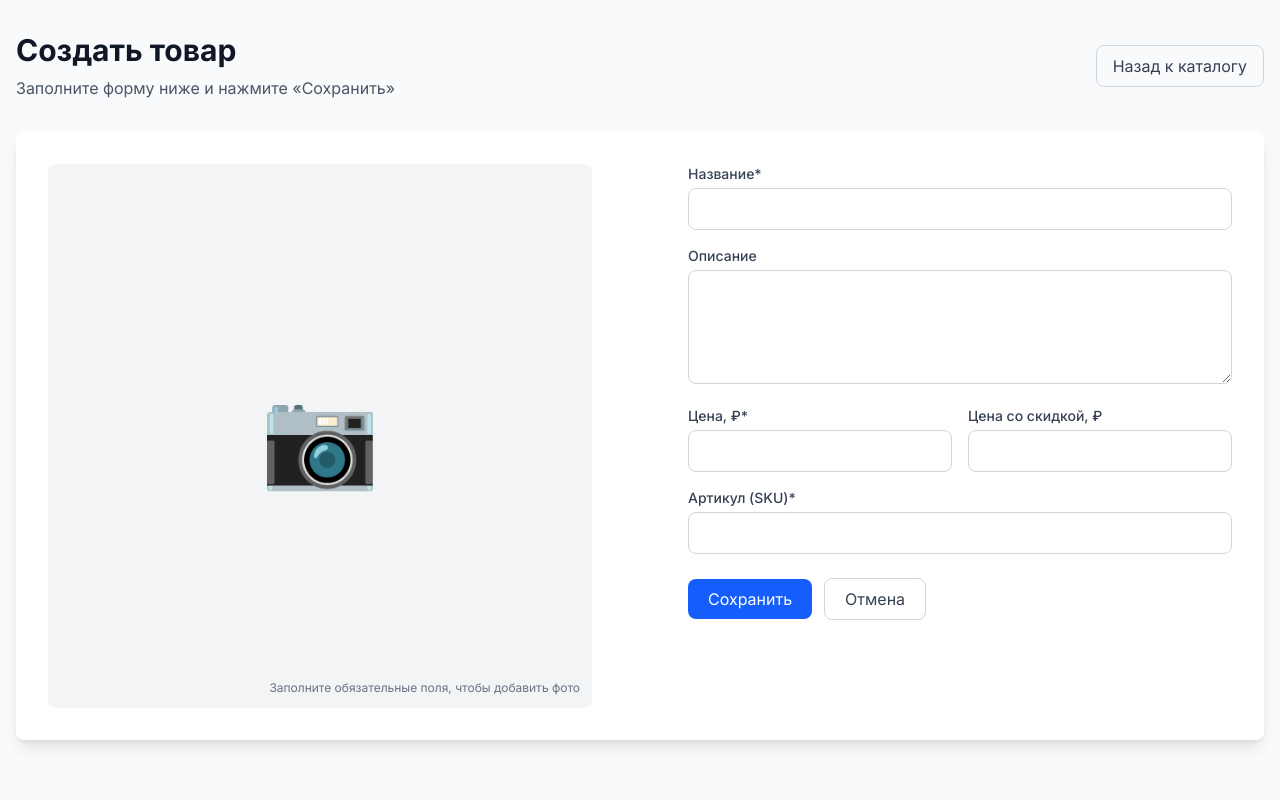
Test: App NewProductPage › кнопка загрузки показывает текст "Загрузка…" при отправке
This screenshot has width=1280, height=800.
In the field labelled "Название*": (960,209) top-left (688, 188), bottom-right (1232, 230), type "A"
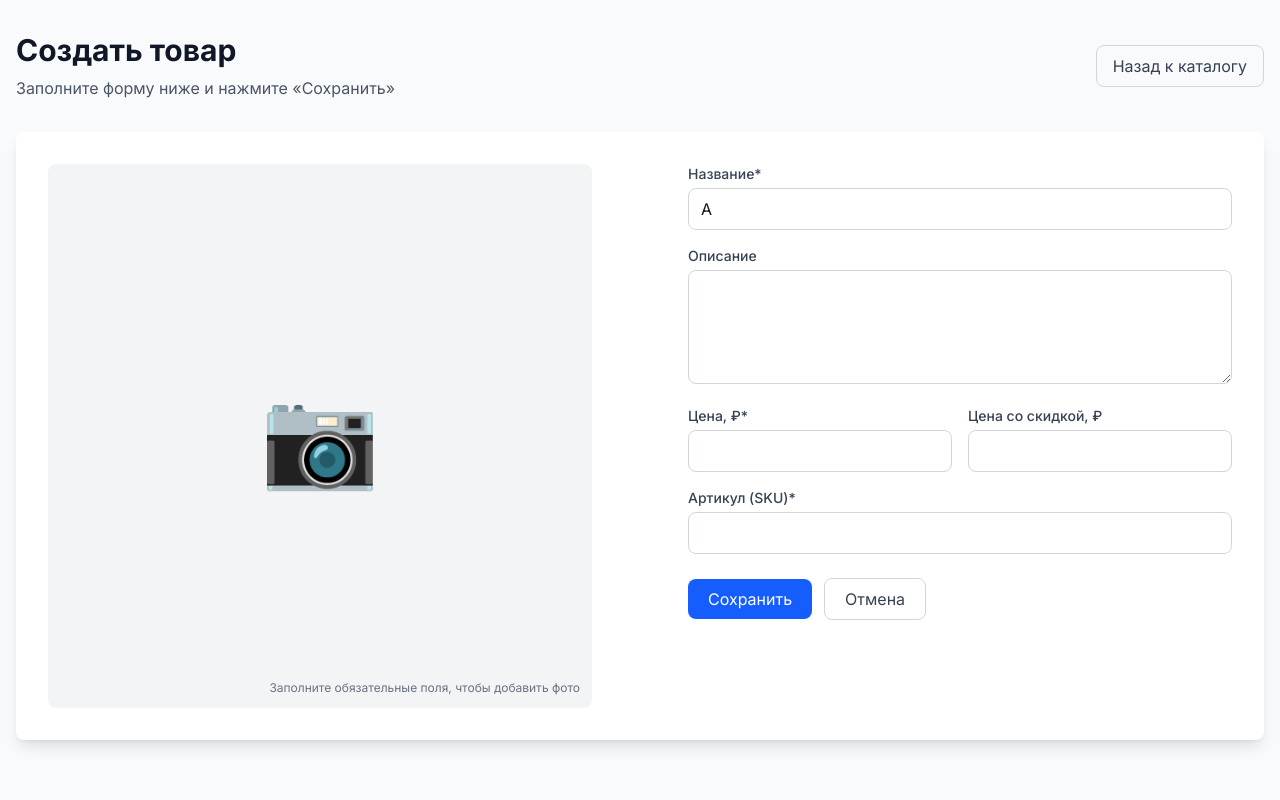
In the number field labelled "Цена, ₽*": (820,451) top-left (688, 430), bottom-right (952, 472), type "10"
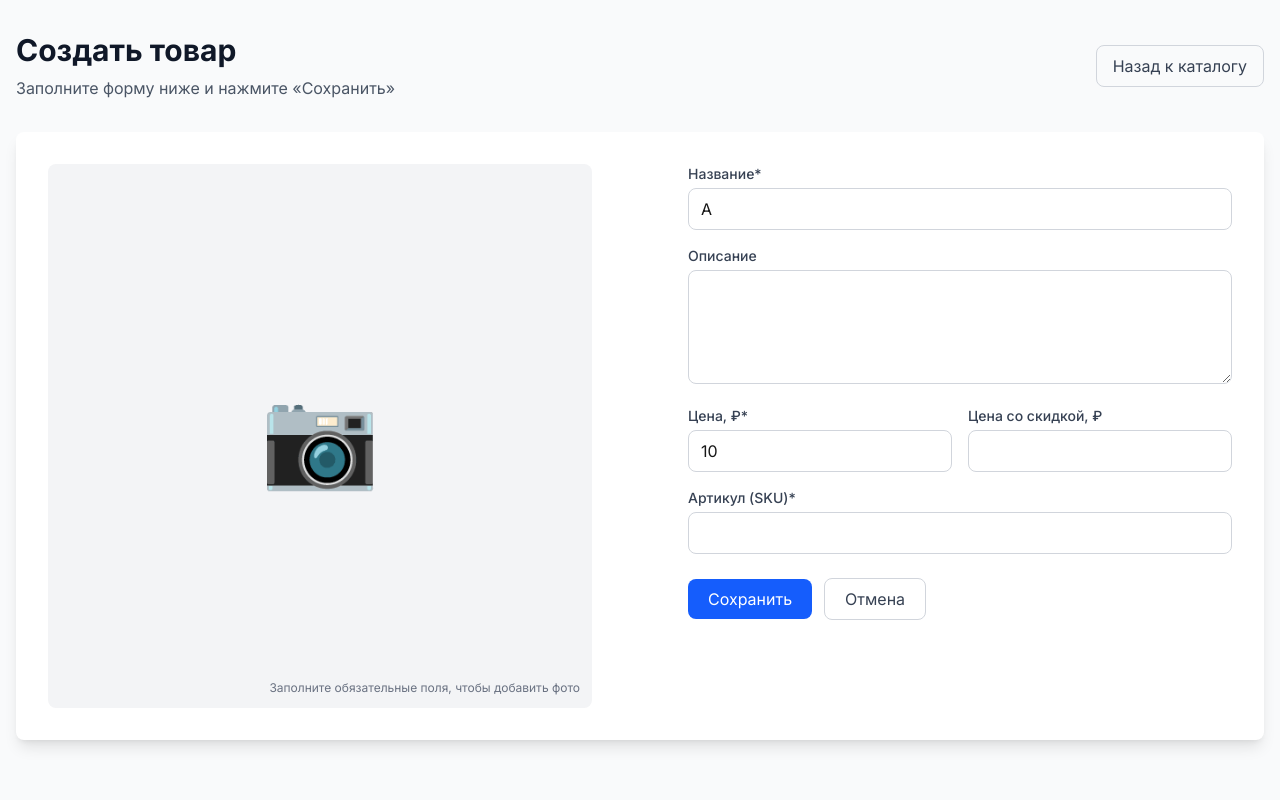
In the field labelled "Артикул (SKU)*": (960,533) top-left (688, 512), bottom-right (1232, 554), type "S"
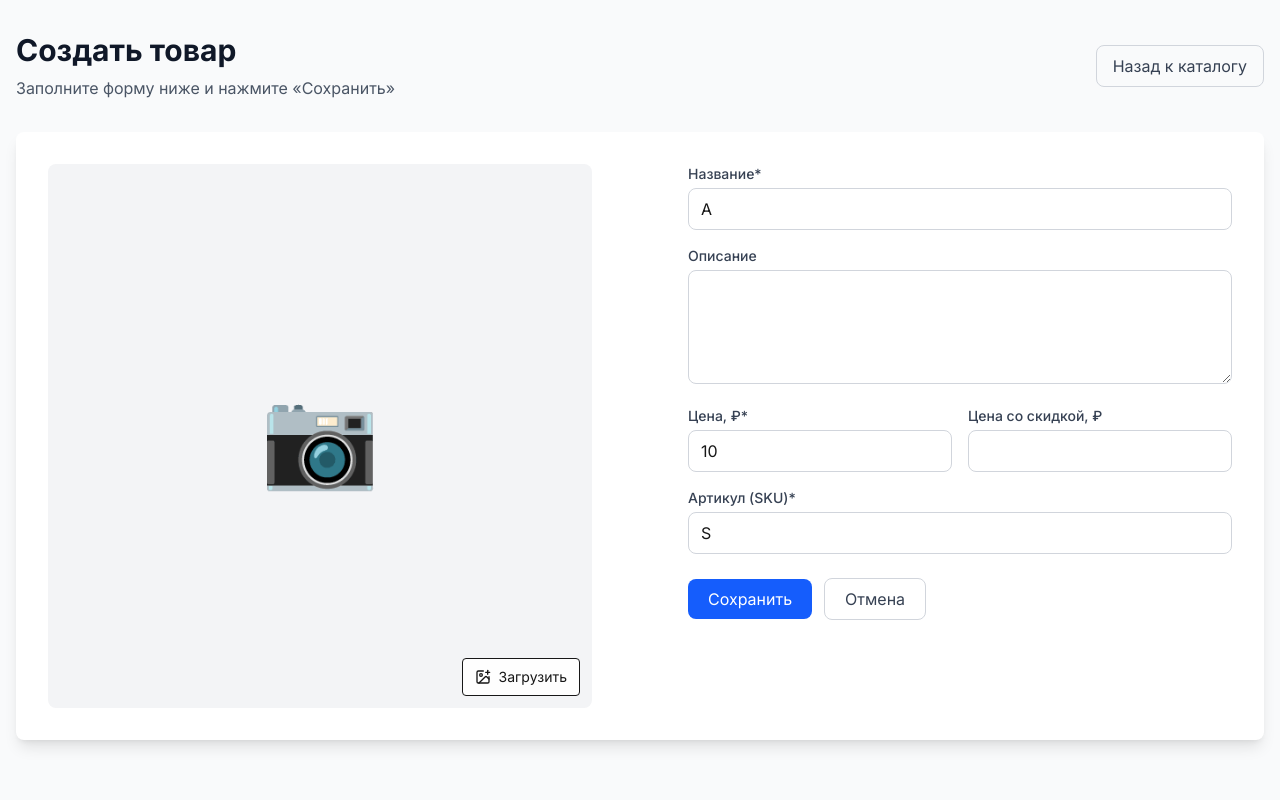
Now the file field "Загрузить" is shown, box top-left (462, 658), bottom-right (580, 696)
